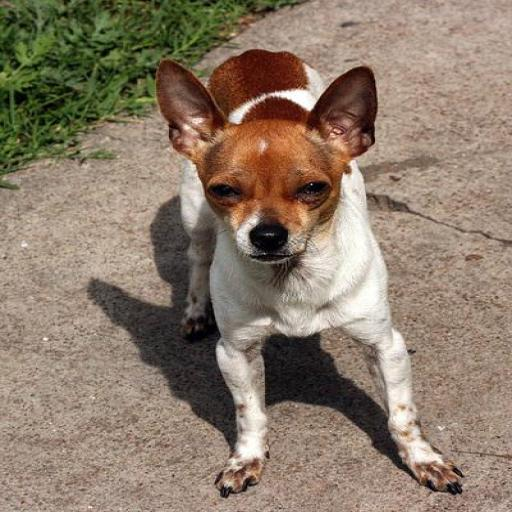dog_face: (162, 63, 376, 261)
